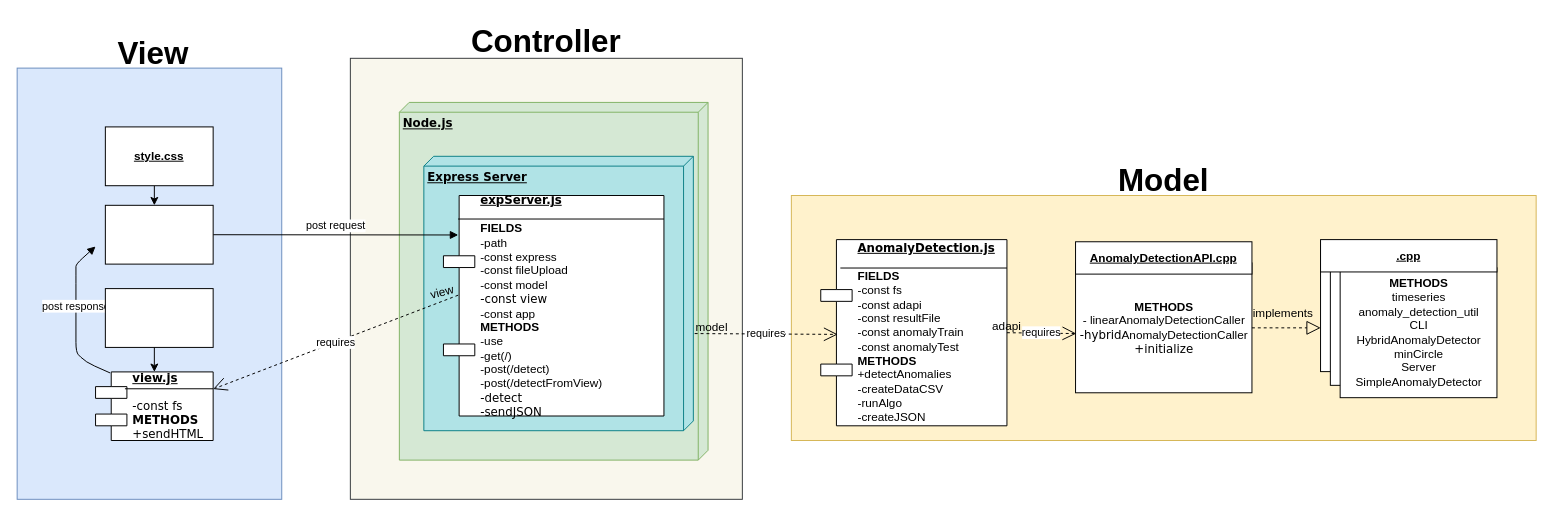
Some shapes in this 1553 by 524 pixel diagram are drawn without their labels. Each missing label, with the centre of its shape:
"index.html" goes at point 158,234.
"results.html" goes at point 158,317.
